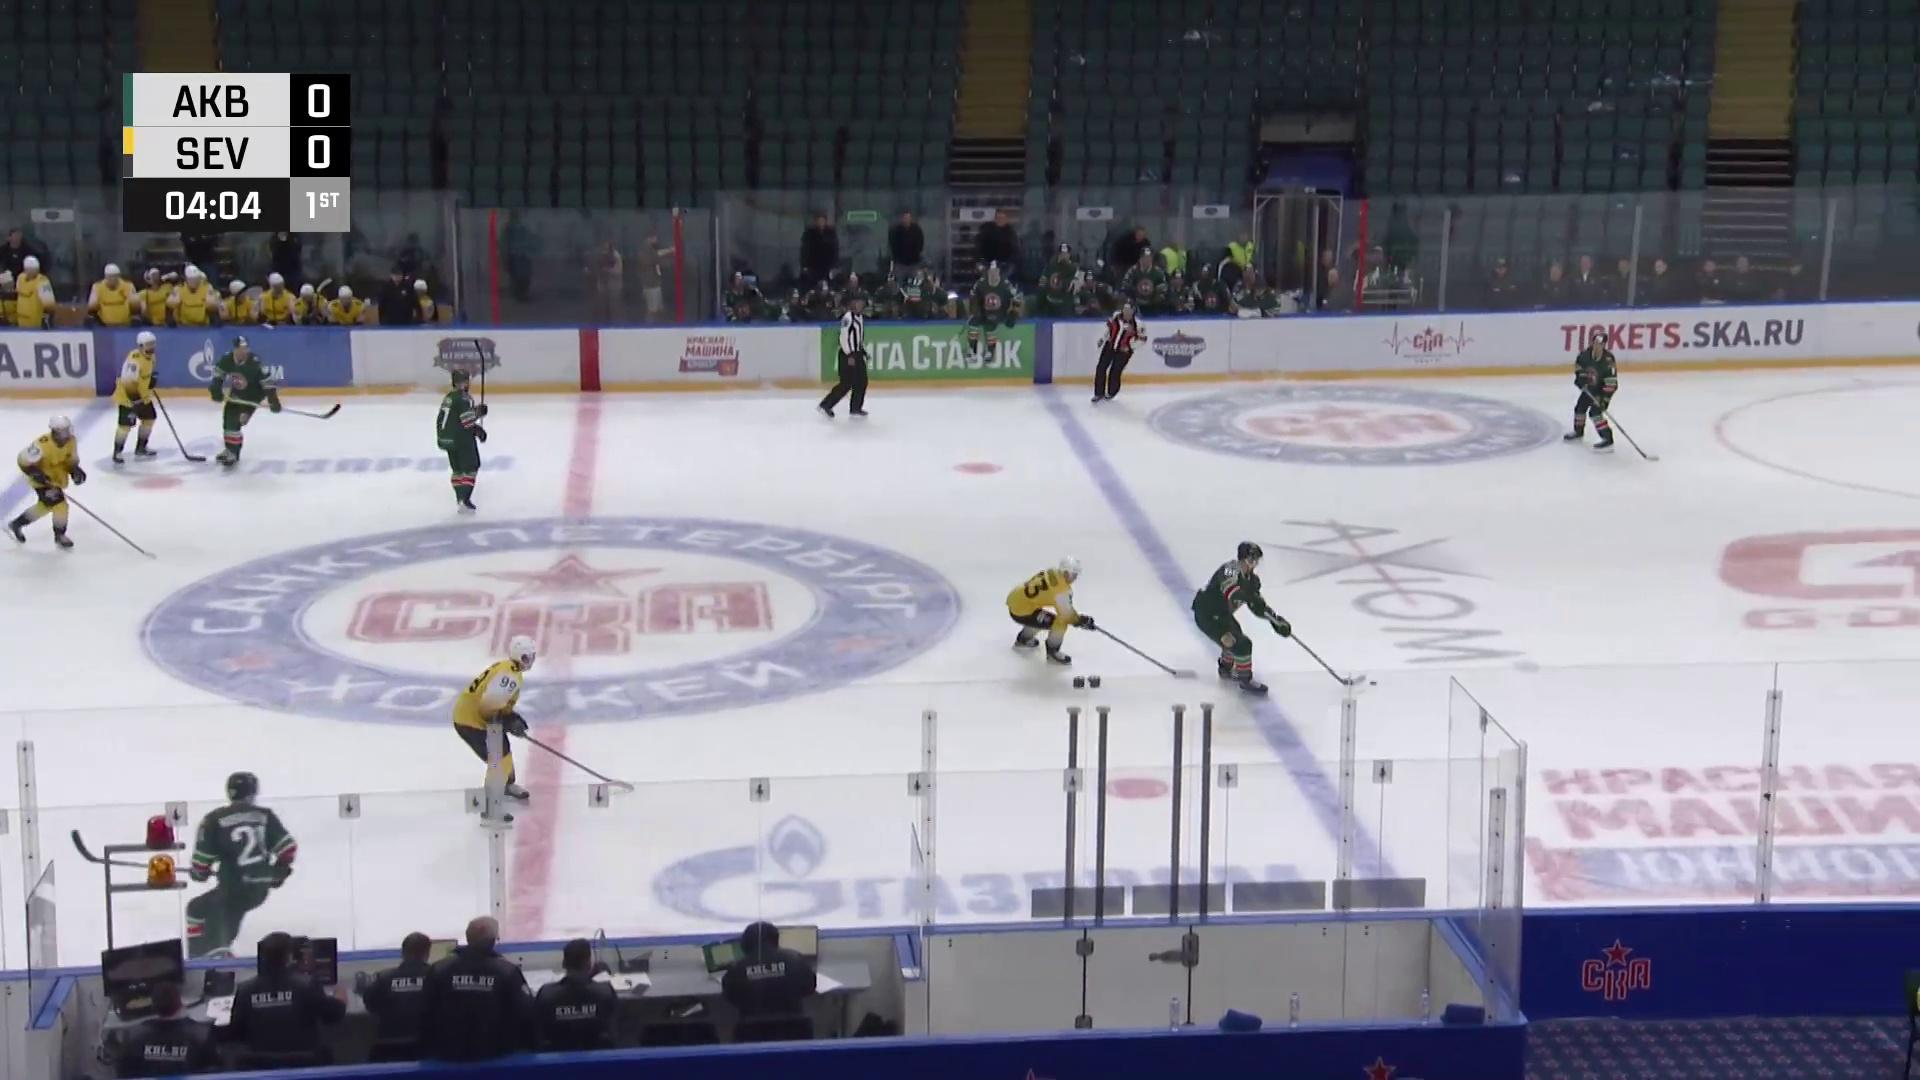ball: (1369, 679, 1379, 688)
